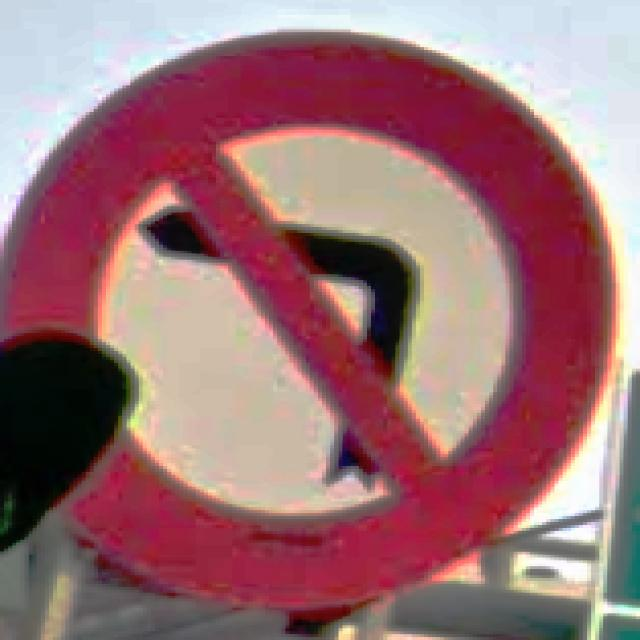noturnleft: (0, 26, 620, 616)
